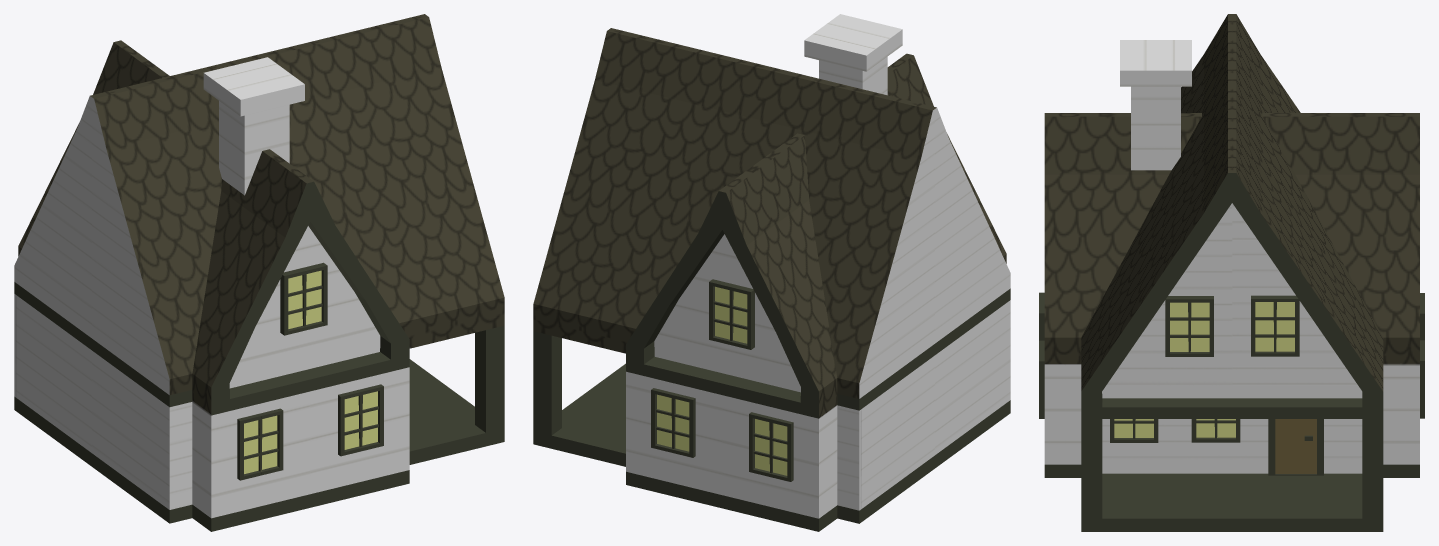
File: House3.fbx
3 views of the same model, side by side, from view 1: azimuth 30°, elevation 25°; view 2: azimuth 150°, elevation 25°; view 3: azimuth 270°, elevation 25° (orthographic). The views are drawn at different scales.
Visible parts, largest first — view 1: Cube.001; view 2: Cube.001; view 3: Cube.001.
Boxes of the visible parts, x1,y1,x2,y2 form: Cube.001: (14, 14, 504, 531); Cube.001: (533, 14, 1010, 531); Cube.001: (1039, 14, 1424, 531).
Bounding box in the file's own units: 2618 × 2890 × 2686.
Materials: 1 (1 with a texture image).
